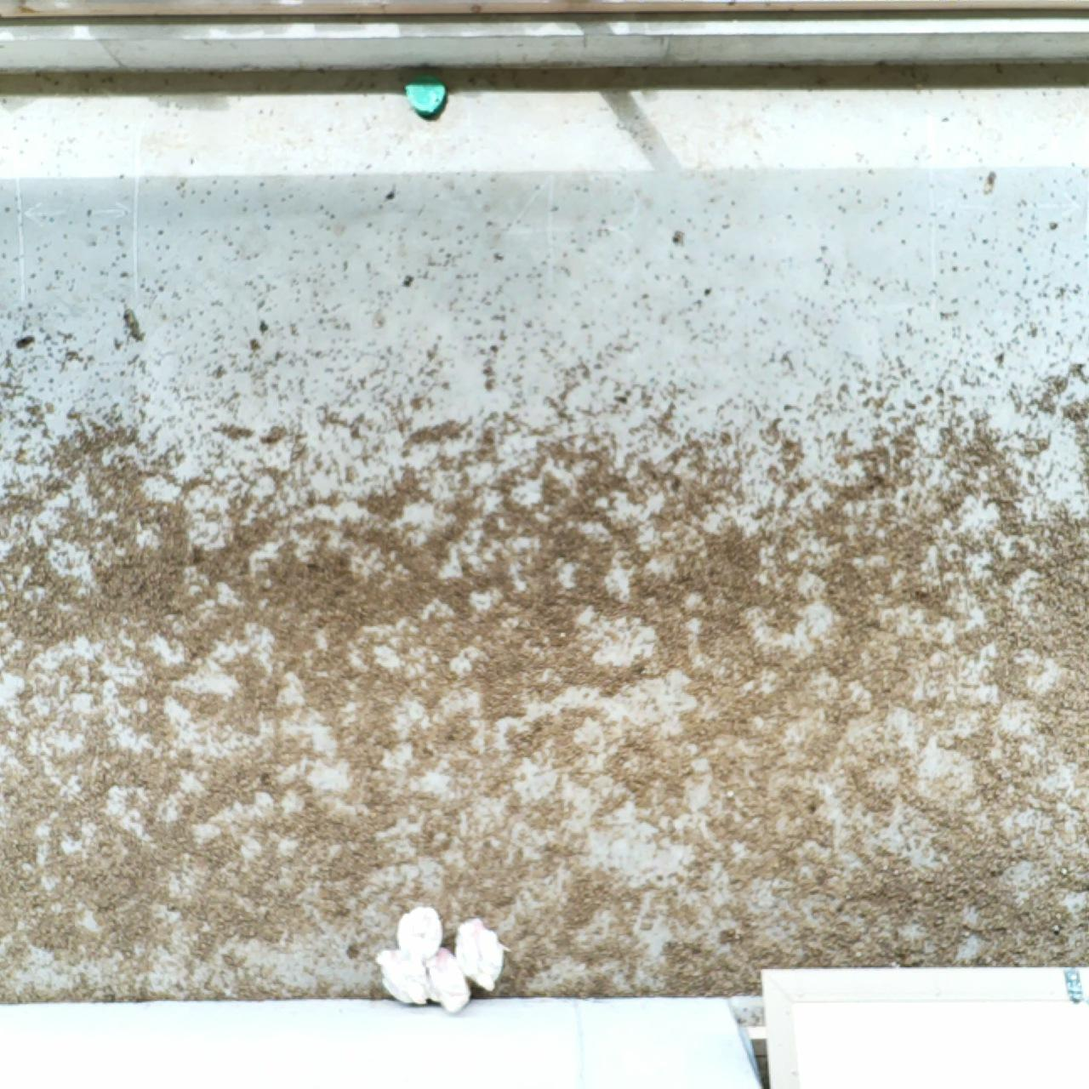chicken: (450, 914, 510, 996), (374, 945, 435, 1007), (421, 945, 473, 1015), (395, 904, 446, 966)
